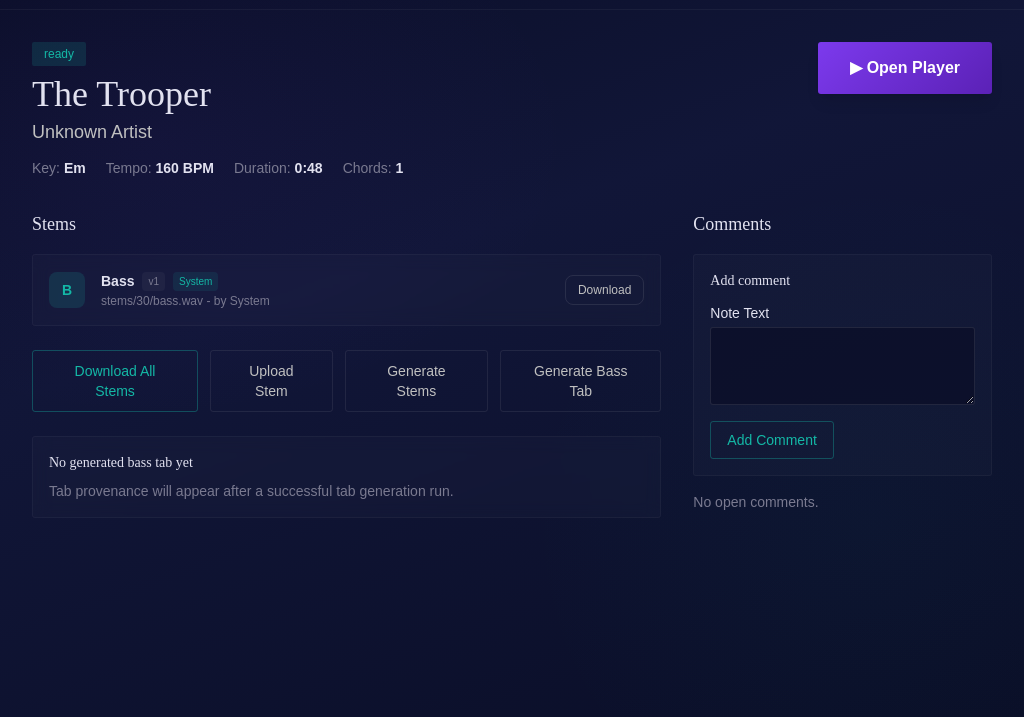
SongDetailPage › renders loading and error states for stem upload
Click the button "Upload Stem" at (271, 381), box [210,350,333,412]
(page scrolled)
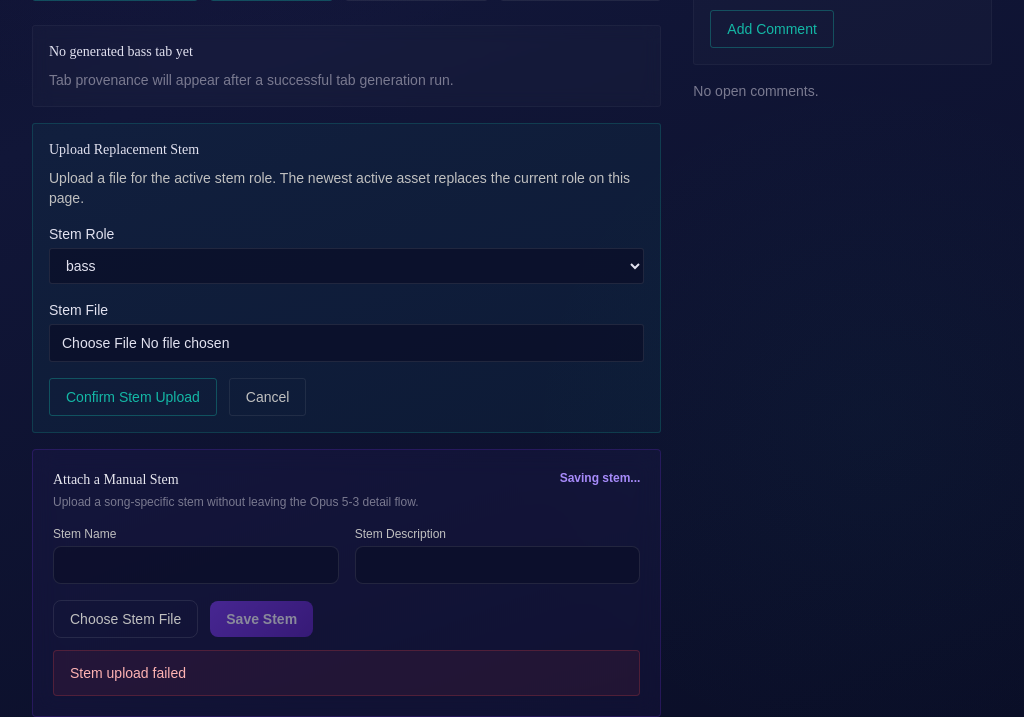
Now the text "Saving stem..." is shown, box [560,470,640,486]
Now the text "Stem upload failed" is shown, box [53,650,640,696]
